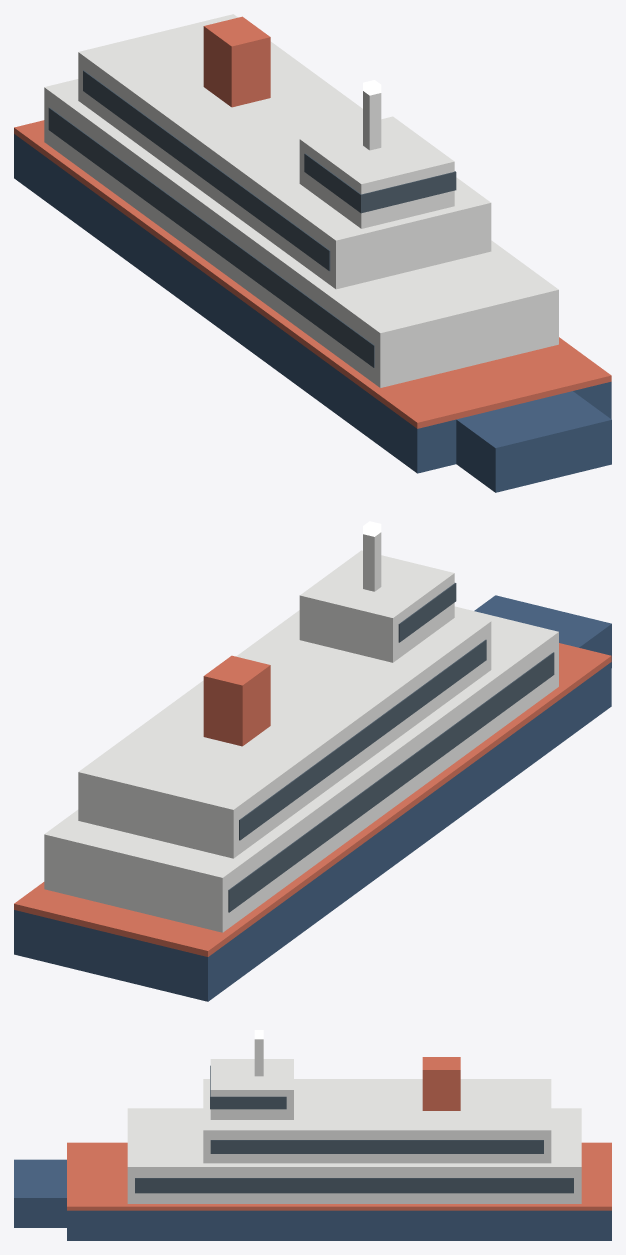
The model's file is ferry.glb.
3 views of the same model, one above another, from view 1: azimuth 30°, elevation 25°; view 2: azimuth 150°, elevation 25°; view 3: azimuth 270°, elevation 25° (orthographic). The views are drawn at different scales.
Size of the model in its own units: 10 by 12.9 by 39.5.
